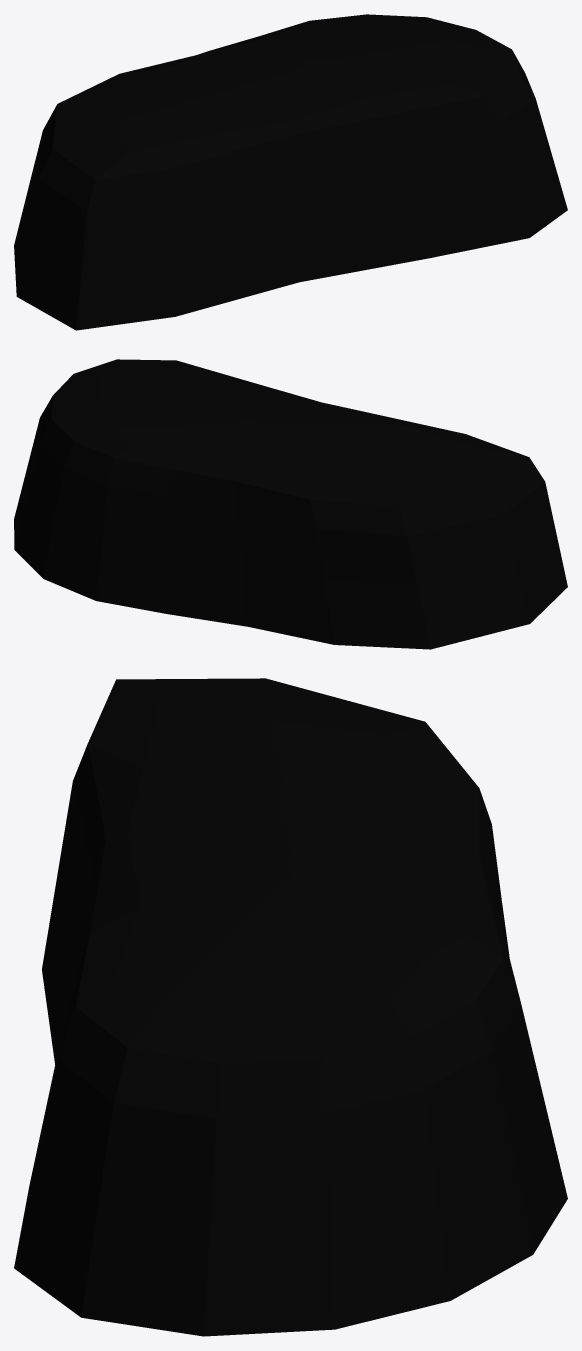
File: Island_02b.fbx
3 renders of one model, top to bottom at view 1: azimuth 30°, elevation 25°; view 2: azimuth 150°, elevation 25°; view 3: azimuth 270°, elevation 25°, orthographic. The views are drawn at different scales.
Visible parts, largest first — view 1: Island_02b; view 2: Island_02b; view 3: Island_02b.
Boxes of the visible parts, <box> form: Island_02b: <box>14,14,567,330</box>; Island_02b: <box>14,359,567,649</box>; Island_02b: <box>14,678,567,1336</box>.
Size of the model in its own units: 1652 by 445 by 856.
